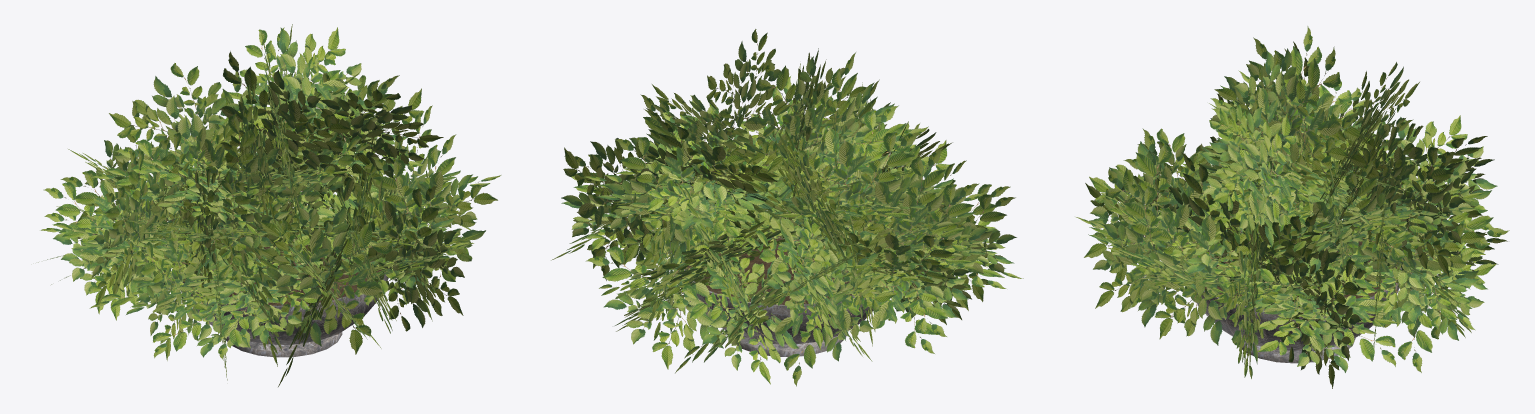
Rendered from PotFlowers03.FBX.
3 renders of one model, left to right at view 1: azimuth 30°, elevation 25°; view 2: azimuth 150°, elevation 25°; view 3: azimuth 270°, elevation 25°, orthographic.
Visible parts, largest first — view 1: PotFlowers03; view 2: PotFlowers03; view 3: PotFlowers03.
Boxes of the visible parts, x1,y1,x2,y2 form: PotFlowers03: (38,24,501,386); PotFlowers03: (551,29,1023,386); PotFlowers03: (1076,26,1509,388).
Size of the model in its own units: 0.7164 by 0.4484 by 0.6182.
